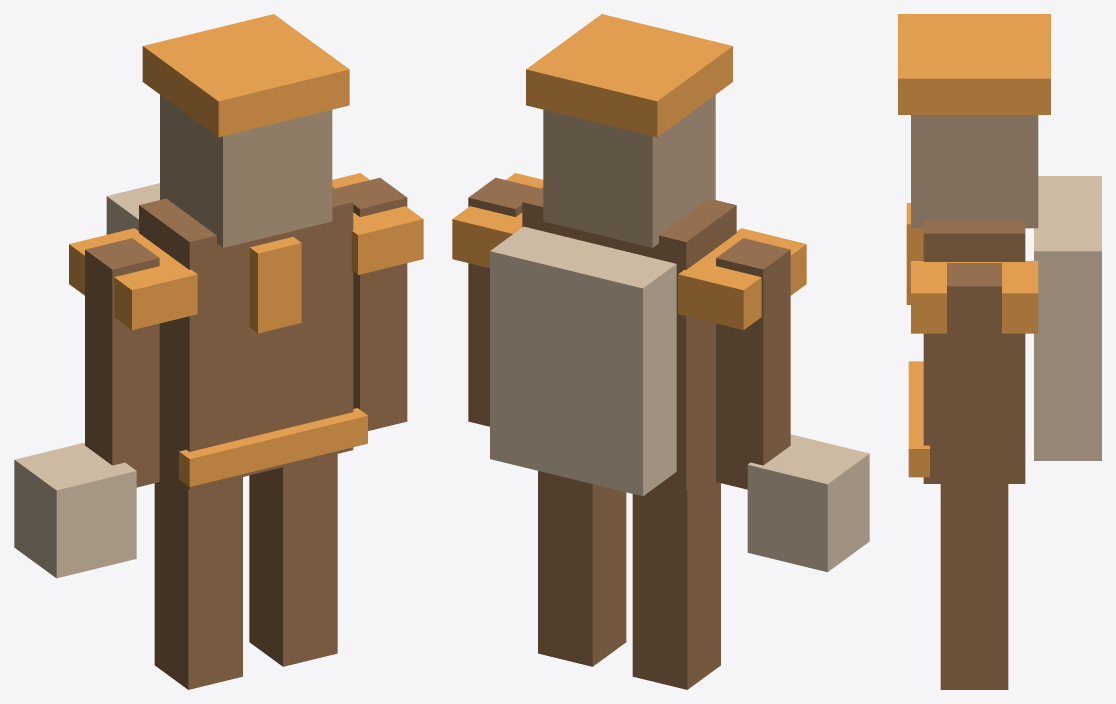
Rendered from 07_bex_nullborne_pilgrim_under_dormitory.glb.
The picture shows the model from 3 angles, left to right: view 1: azimuth 30°, elevation 25°; view 2: azimuth 150°, elevation 25°; view 3: azimuth 270°, elevation 25°; orthographic projection.
Parts seen in each view (by area): view 1: Bex Nullborne, Pilgrim under Dormitory; view 2: Bex Nullborne, Pilgrim under Dormitory; view 3: Bex Nullborne, Pilgrim under Dormitory.
Boxes of the visible parts, bbox=[...] form: Bex Nullborne, Pilgrim under Dormitory: bbox=[14, 14, 423, 689]; Bex Nullborne, Pilgrim under Dormitory: bbox=[452, 14, 869, 689]; Bex Nullborne, Pilgrim under Dormitory: bbox=[898, 14, 1101, 689].
Bounding box in the file's own units: 0.9535 × 1.51 × 0.46.
